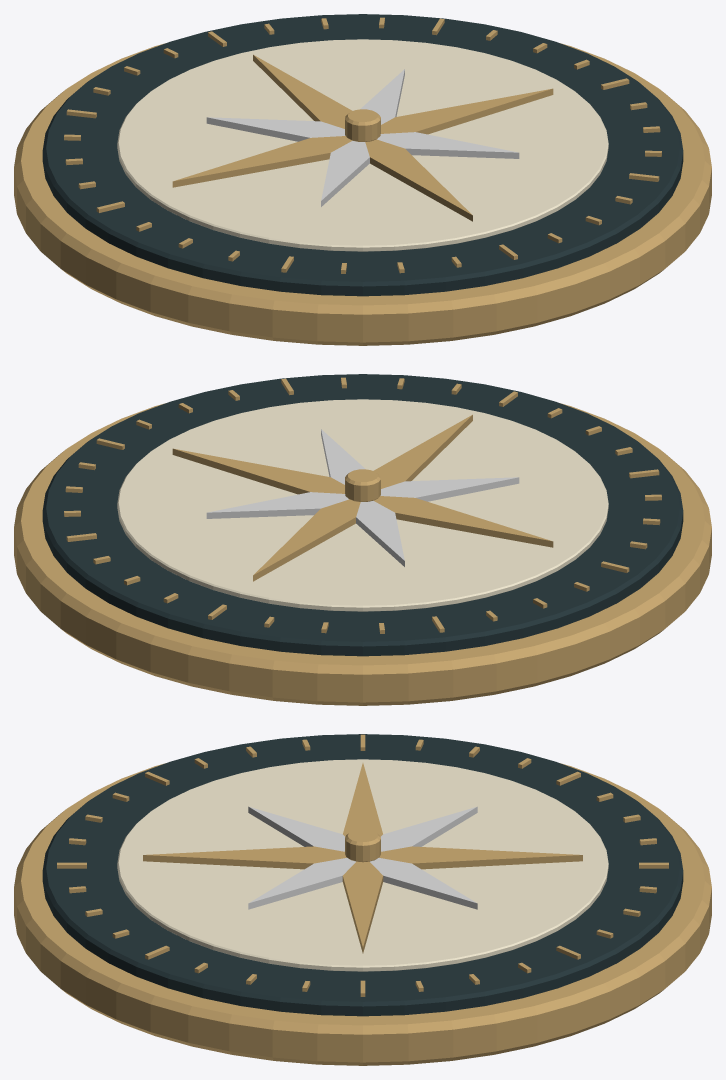
Rendered from board-prop.glb.
The picture shows the model from 3 angles, top to bottom: view 1: azimuth 30°, elevation 25°; view 2: azimuth 150°, elevation 25°; view 3: azimuth 270°, elevation 25°; orthographic projection.
Parts seen in each view (by area): view 1: BoardProp; view 2: BoardProp; view 3: BoardProp.
Part boxes in pixels (x1,y1,x2,y2): BoardProp: [14, 14, 711, 345]; BoardProp: [14, 374, 711, 705]; BoardProp: [14, 734, 711, 1065].
Bounding box in the file's own units: 1 × 0.1355 × 1.
